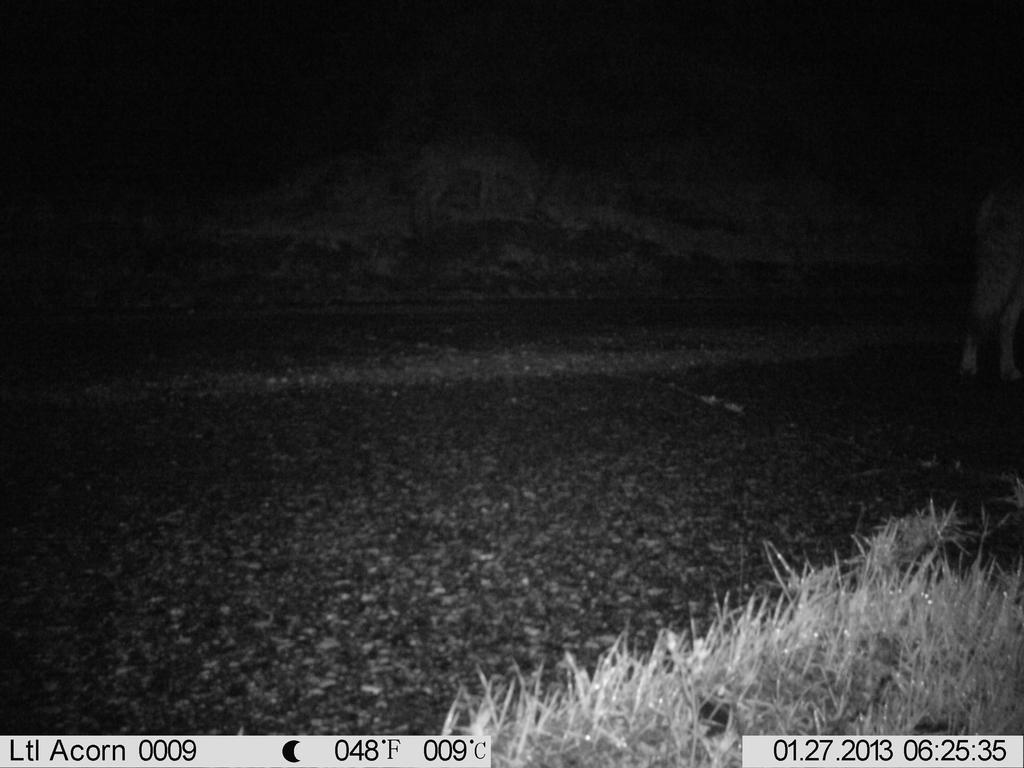coyote: (951, 179, 1024, 385)
